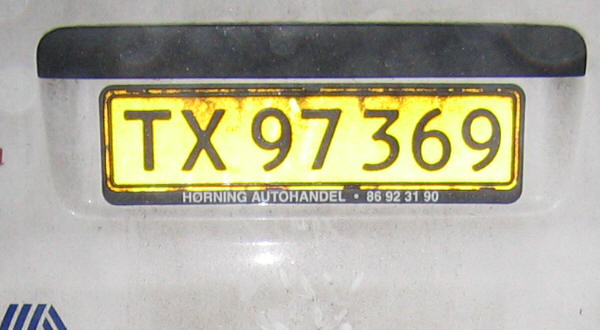license_plate: (103, 88, 519, 191)
